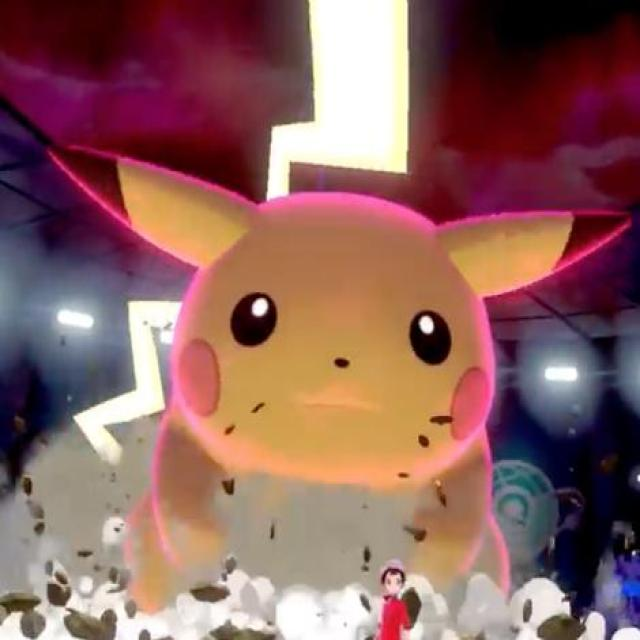pikachu: (52, 144, 631, 616)
